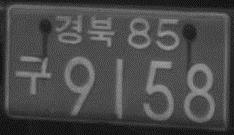1: (110, 55, 129, 122)
5: (141, 58, 176, 121), (154, 17, 181, 51)
8: (182, 60, 217, 124), (126, 16, 150, 51)
9: (62, 55, 96, 118)
경북_O: (54, 12, 116, 47)
구: (12, 53, 53, 98)
